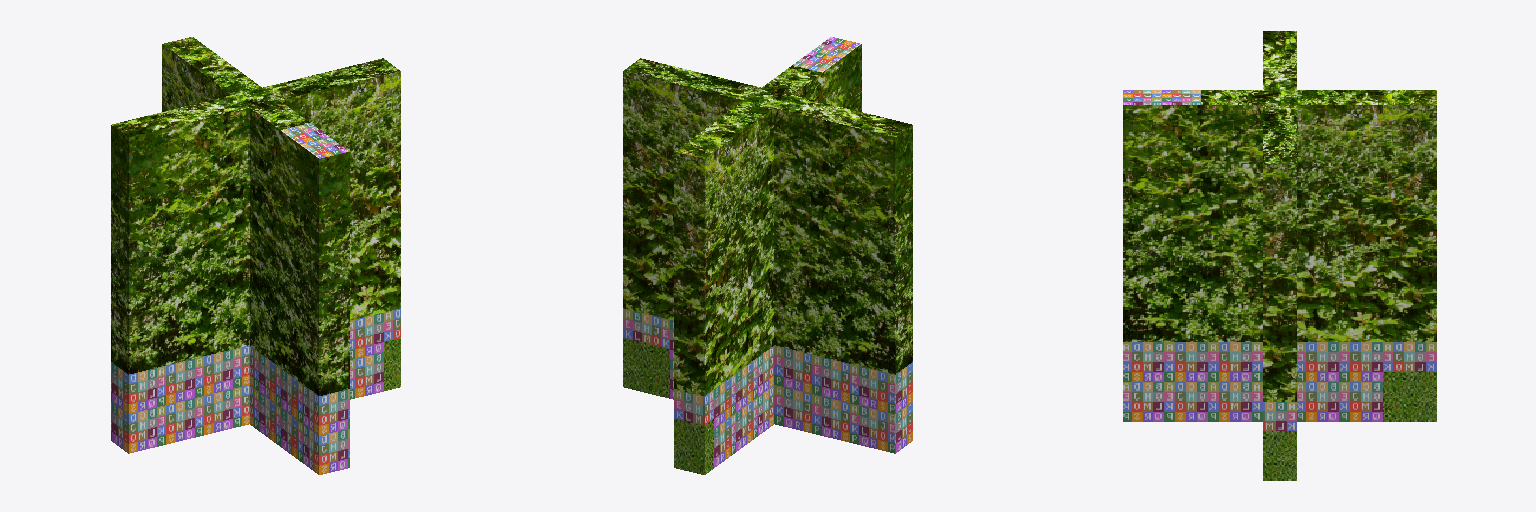
3 renders of one model, left to right at view 1: azimuth 30°, elevation 25°; view 2: azimuth 150°, elevation 25°; view 3: azimuth 270°, elevation 25°, orthographic.
Parts seen in each view (by area): view 1: cube2; view 2: cube2; view 3: cube2.
Part boxes in pixels (left/top/right/bottom): cube2: left=111, top=37, right=400, bottom=474; cube2: left=623, top=37, right=912, bottom=474; cube2: left=1123, top=31, right=1436, bottom=480.
Bounding box in the file's own units: 0.9 × 1 × 0.9.
Materials: 1 (1 with a texture image).